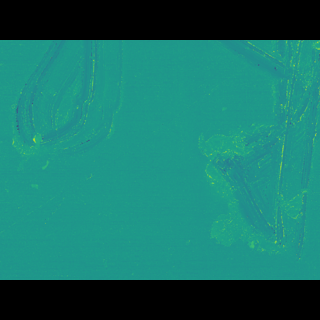Loch: (194, 69, 320, 238), (7, 69, 129, 162)
